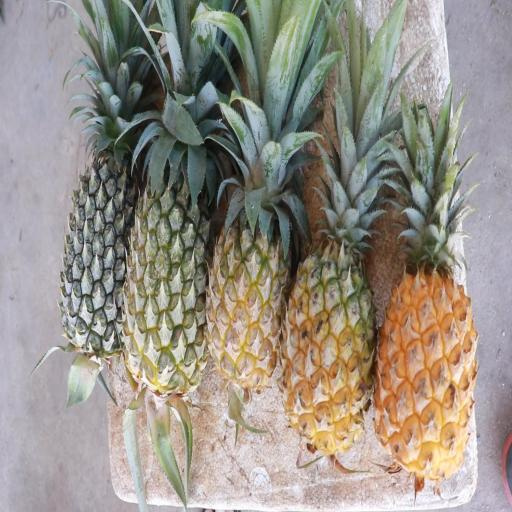------------------------------: (120, 139, 210, 389)
Pineapple - v8 v1: (376, 212, 476, 472), (286, 203, 374, 444), (206, 169, 290, 390)
